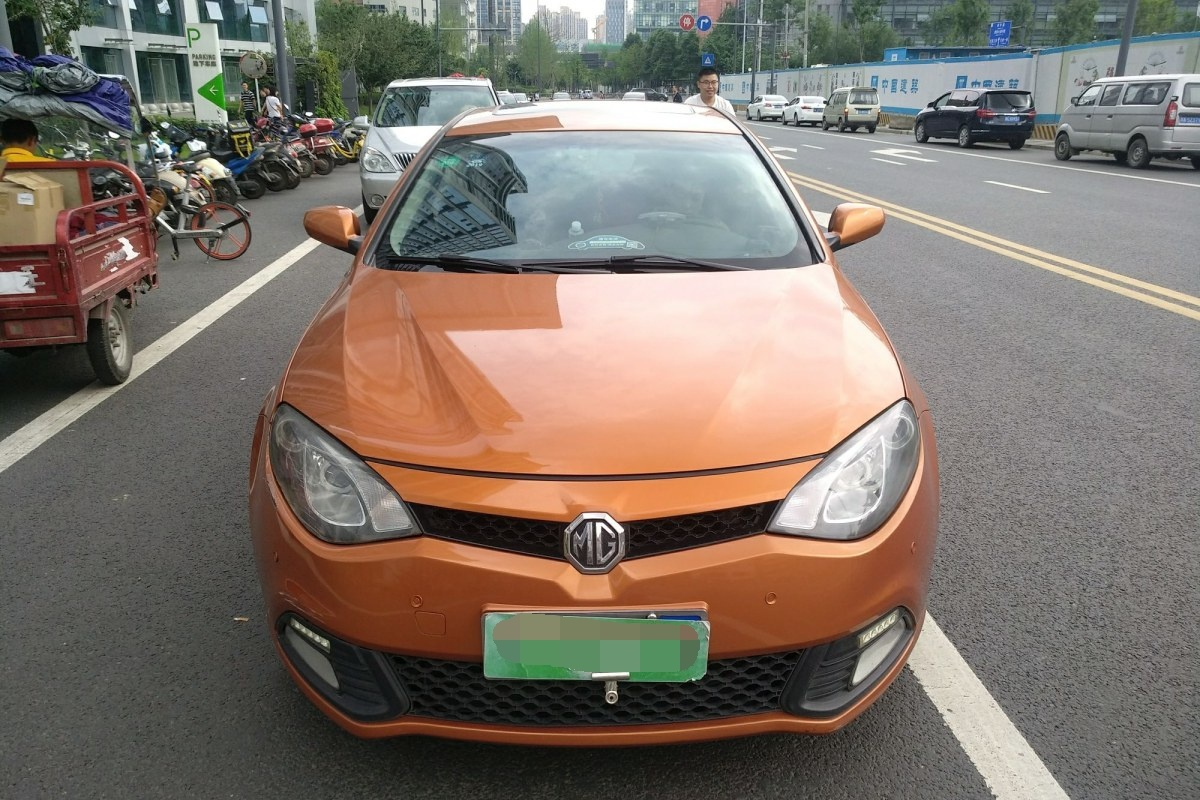family sedan: (253, 87, 946, 761)
